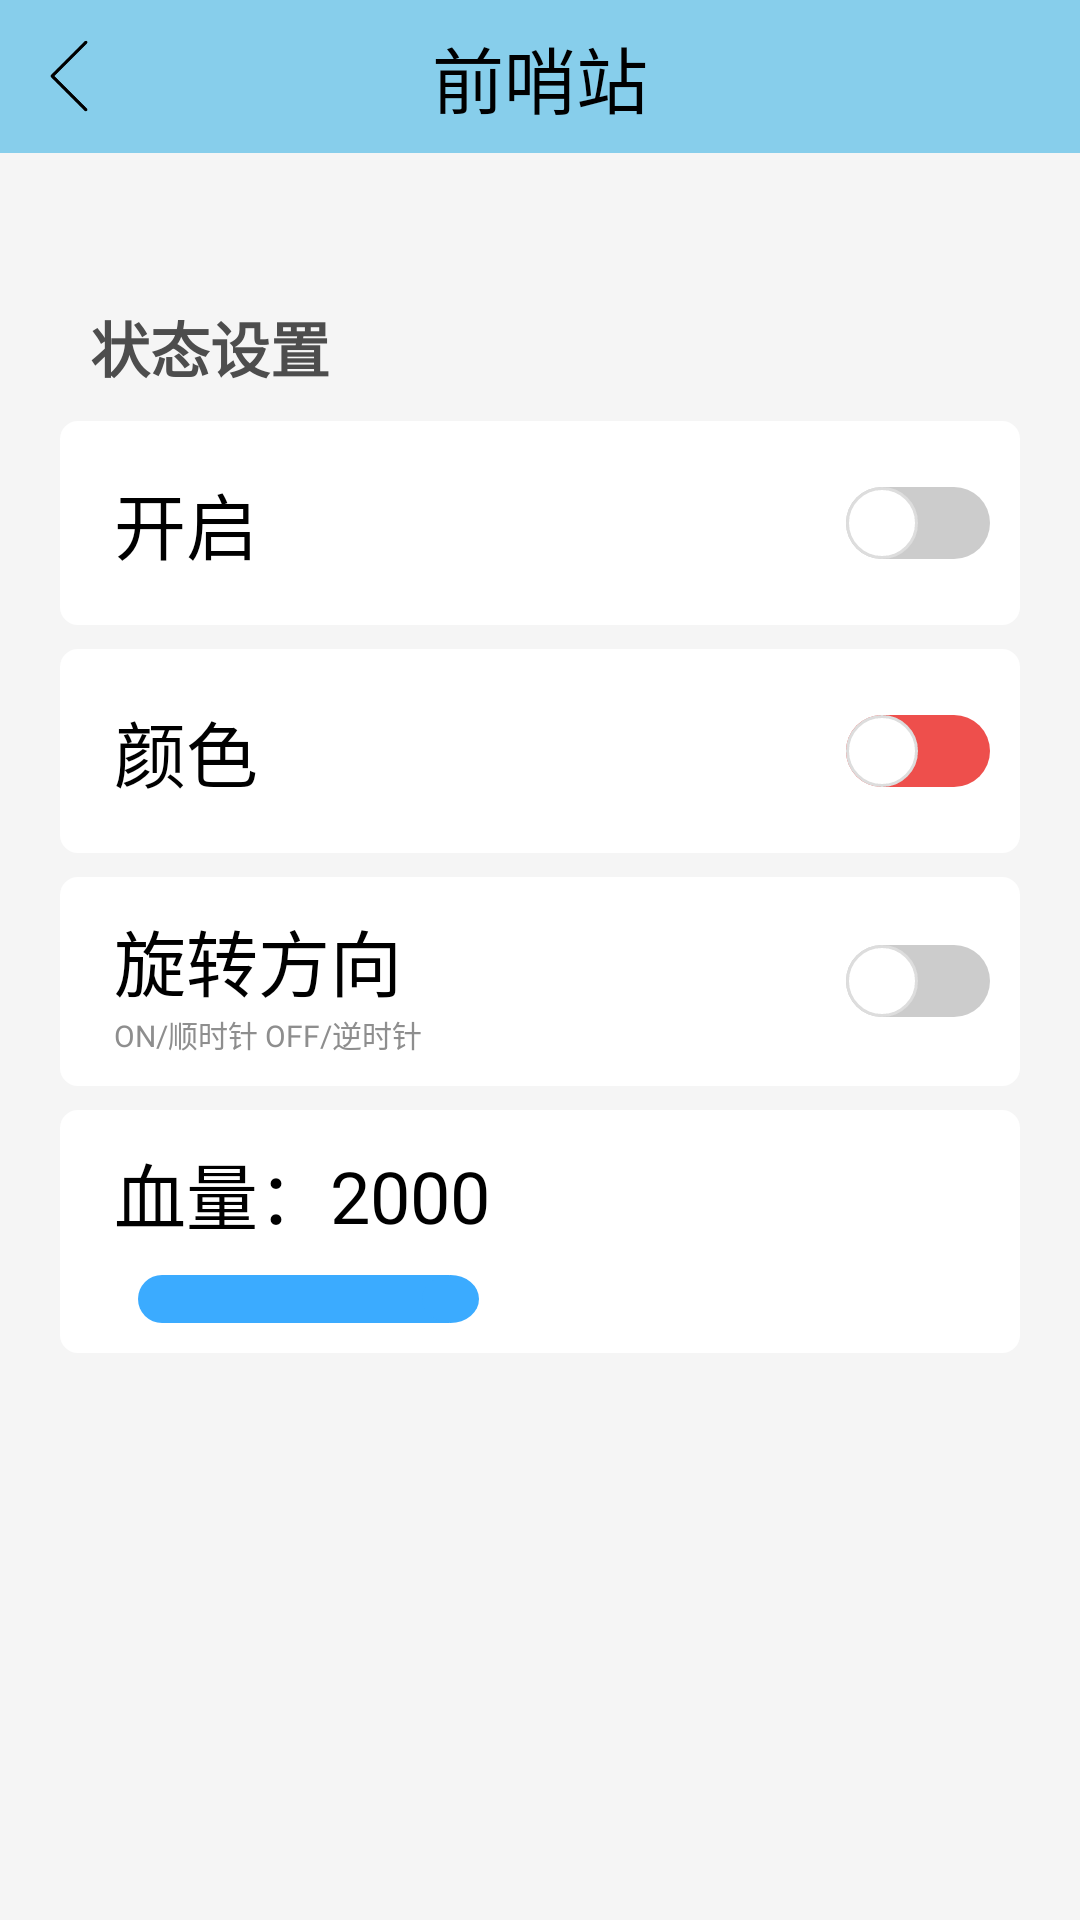

Screen size 1080px×1920px. Icon name, then its center in pixels as [x,y]:
back: [69,76]
